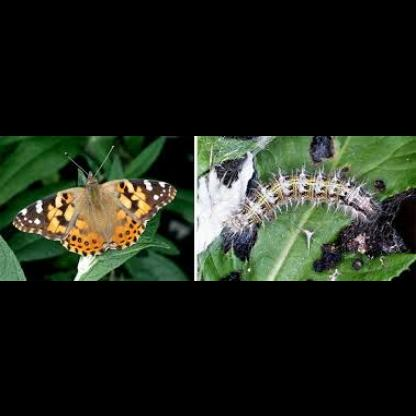oruga: (224, 166, 388, 246)
